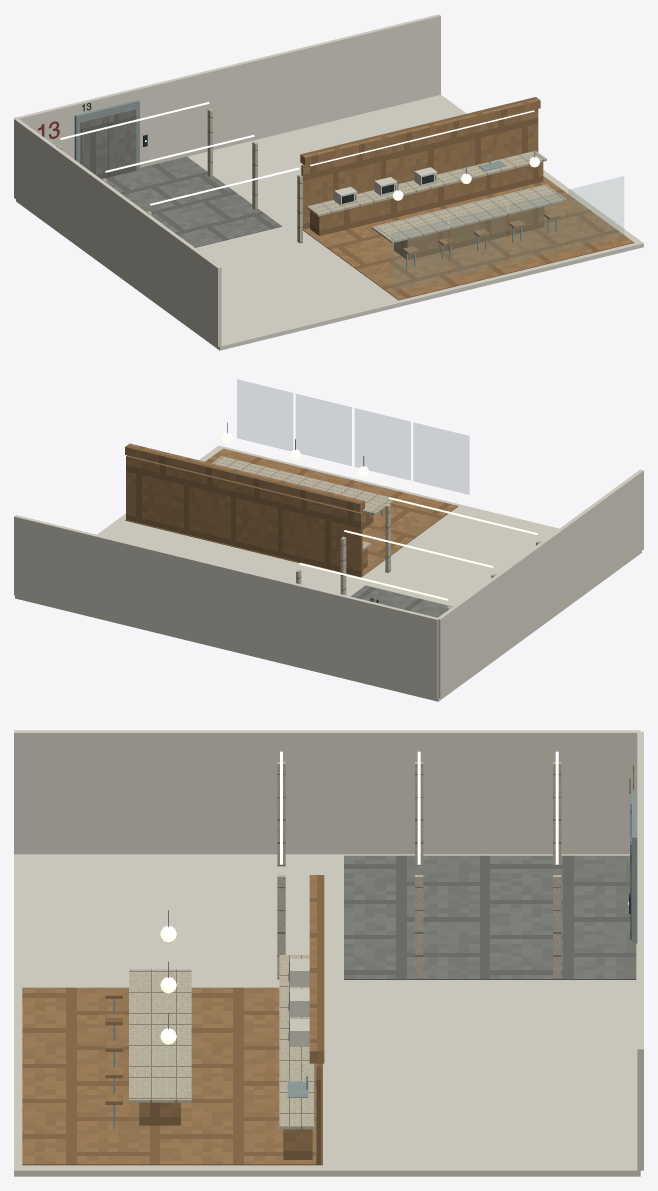
The model's file is CDS1-13F-Public-Area.glb.
3 renders of one model, top to bottom at view 1: azimuth 30°, elevation 25°; view 2: azimuth 150°, elevation 25°; view 3: azimuth 270°, elevation 25°, orthographic. The views are drawn at different scales.
Parts seen in each view (by area): view 1: Structure__Interior ivory wall, Structure__Interior warm timber, Structure__Glazing_clear, Elevator_lobby_grey_tile, Observed_furniture__Interior warm timber, Observed_furniture__Interior limestone, Doors_and_elevators__Interior grey stone, Ceiling_and_lights__Night_interior_LED, Structure__Interior limestone, Elevator_frame, Observed_furniture__Interior ivory wall, Observed_furniture__Interior aluminium; view 2: Structure__Interior ivory wall, Structure__Interior warm timber, Structure__Glazing_clear, Observed_furniture__Interior limestone, Ceiling_and_lights__Night_interior_LED, Elevator_lobby_grey_tile, Structure__Interior limestone; view 3: Structure__Interior ivory wall, Structure__Interior warm timber, Elevator_lobby_grey_tile, Observed_furniture__Interior limestone, Structure__Interior limestone, Observed_furniture__Interior warm timber, Ceiling_and_lights__Night_interior_LED, Observed_furniture__Interior ivory wall, Elevator_frame, Observed_furniture__Interior aluminium.
Part boxes in pixels (bbox=[...]): Structure__Interior ivory wall: bbox=[14, 14, 643, 350]; Structure__Interior warm timber: bbox=[300, 97, 634, 300]; Structure__Glazing_clear: bbox=[391, 176, 623, 291]; Elevator_lobby_grey_tile: bbox=[105, 156, 281, 247]; Observed_furniture__Interior warm timber: bbox=[310, 162, 560, 260]; Observed_furniture__Interior limestone: bbox=[307, 150, 566, 243]; Doors_and_elevators__Interior grey stone: bbox=[80, 109, 136, 178]; Ceiling_and_lights__Night_interior_LED: bbox=[60, 102, 539, 205]; Structure__Interior limestone: bbox=[56, 108, 302, 243]; Elevator_frame: bbox=[74, 99, 139, 169]; Observed_furniture__Interior ivory wall: bbox=[334, 167, 437, 205]; Observed_furniture__Interior aluminium: bbox=[355, 154, 557, 268]; Structure__Interior ivory wall: bbox=[14, 445, 643, 701]; Structure__Interior warm timber: bbox=[125, 443, 458, 577]; Structure__Glazing_clear: bbox=[237, 379, 469, 494]; Observed_furniture__Interior limestone: bbox=[212, 456, 394, 550]; Ceiling_and_lights__Night_interior_LED: bbox=[222, 433, 537, 600]; Elevator_lobby_grey_tile: bbox=[350, 585, 452, 617]; Structure__Interior limestone: bbox=[296, 504, 541, 610]; Structure__Interior ivory wall: bbox=[14, 730, 643, 1176]; Structure__Interior warm timber: bbox=[22, 875, 324, 1165]; Elevator_lobby_grey_tile: bbox=[344, 855, 636, 979]; Observed_furniture__Interior limestone: bbox=[129, 955, 314, 1129]; Structure__Interior limestone: bbox=[277, 762, 561, 979]; Observed_furniture__Interior warm timber: bbox=[105, 987, 312, 1159]; Ceiling_and_lights__Night_interior_LED: bbox=[160, 751, 558, 1044]; Observed_furniture__Interior ivory wall: bbox=[290, 958, 309, 1046]; Elevator_frame: bbox=[632, 790, 637, 943]; Observed_furniture__Interior aluminium: bbox=[113, 972, 308, 1128].
Bounding box in the file's own units: 18.08 × 3.41 × 15.08.
10 materials, 6 textured.
